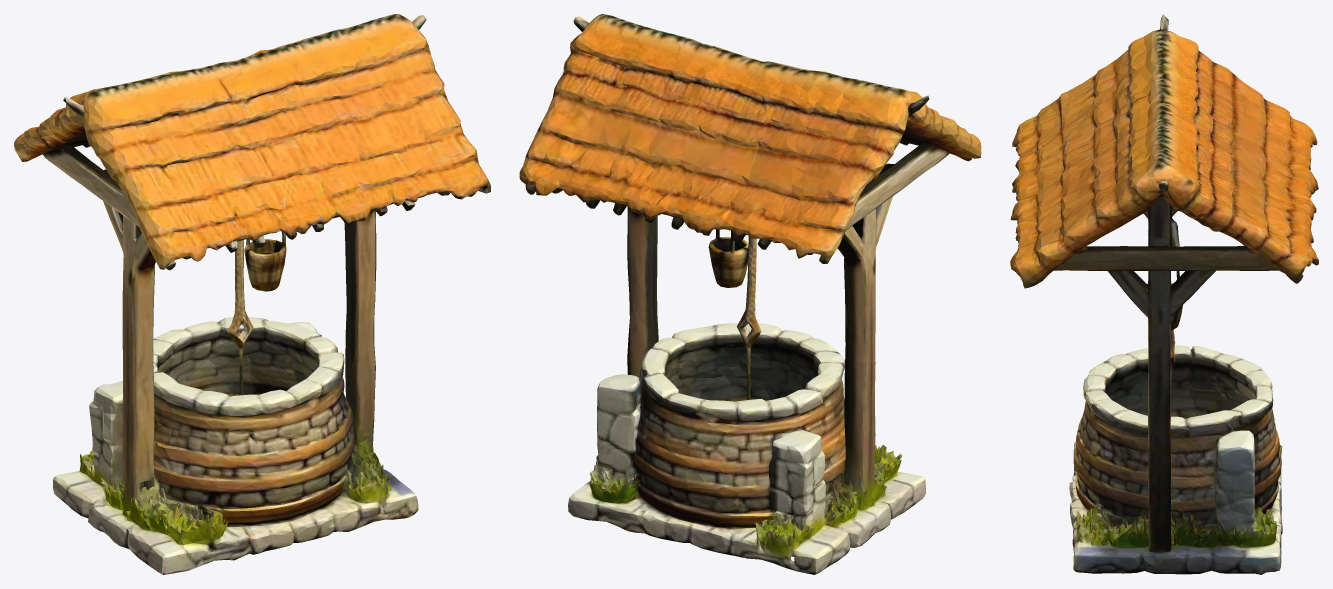
File: village_water_well_01.glb
The picture shows the model from 3 angles, left to right: view 1: azimuth 30°, elevation 25°; view 2: azimuth 150°, elevation 25°; view 3: azimuth 270°, elevation 25°; orthographic projection. The views are drawn at different scales.
Visible parts, largest first — view 1: geometry_0; view 2: geometry_0; view 3: geometry_0.
Boxes of the visible parts, left/top/right/bottom form: geometry_0: left=14, top=14, right=490, bottom=574; geometry_0: left=519, top=14, right=981, bottom=574; geometry_0: left=1010, top=14, right=1318, bottom=574.
Size of the model in its own units: 0.8218 by 1 by 0.66.
Materials: 1 (1 with a texture image).
